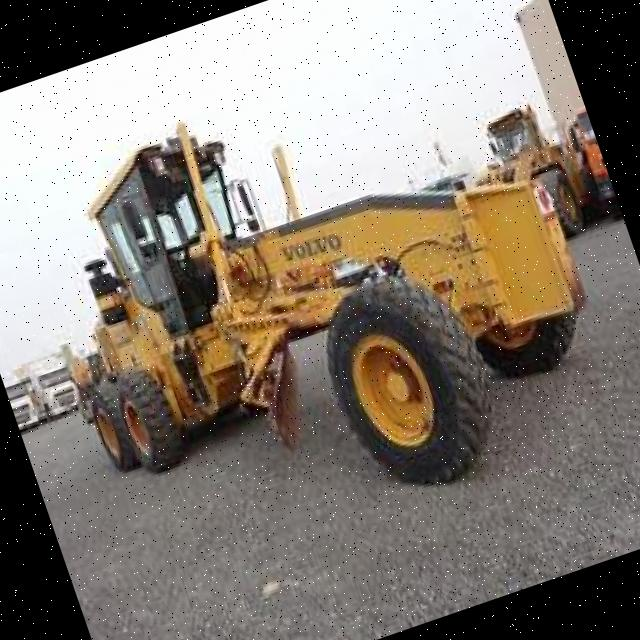Grader: (0, 13, 633, 591)
